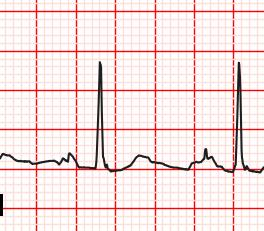LVH: (117, 152, 162, 175)
